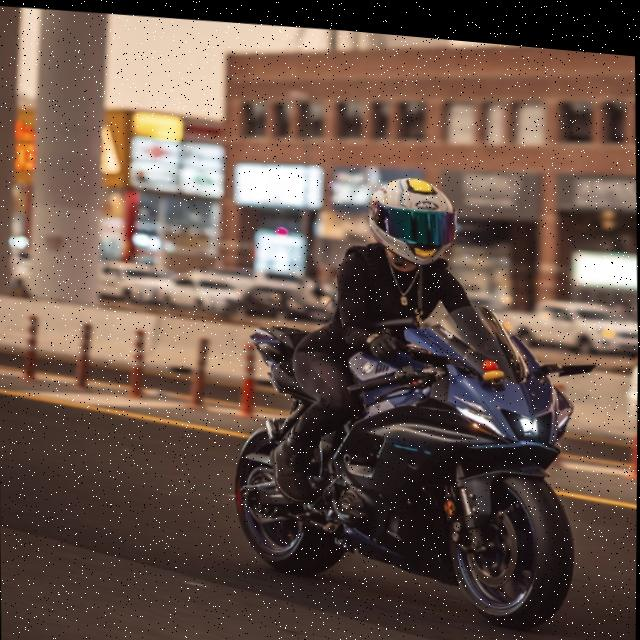helmet: (363, 163, 464, 266)
